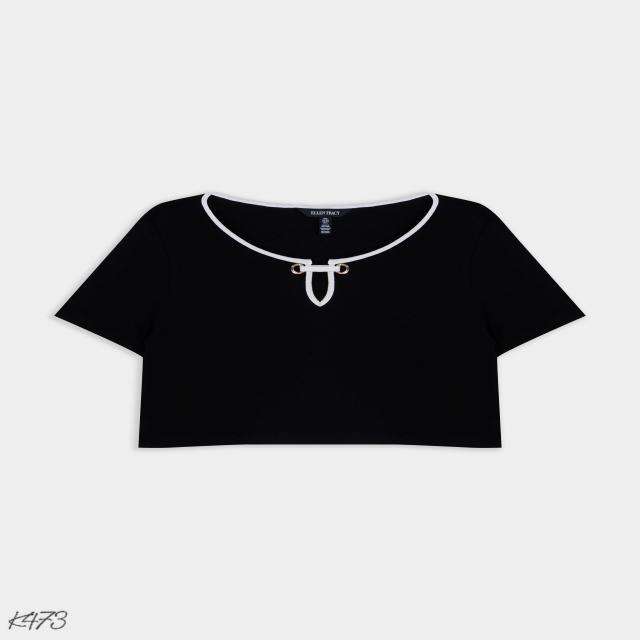clothes: (80, 193, 589, 451)
